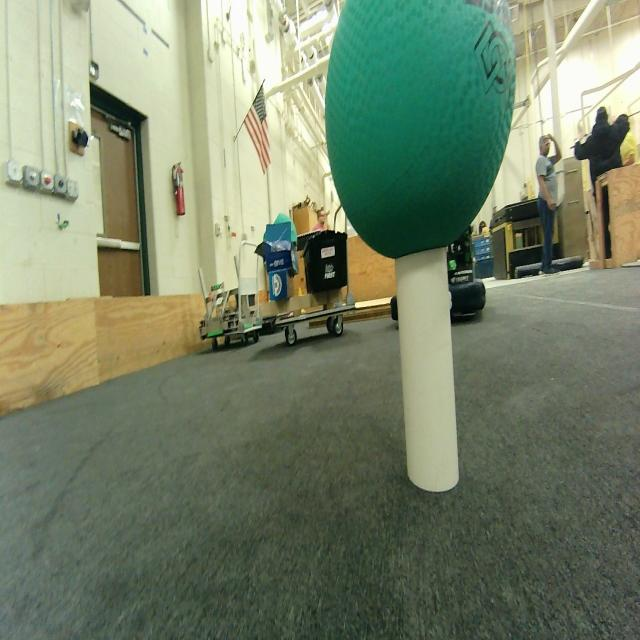algae: (324, 0, 523, 267)
coral: (390, 241, 476, 502)
